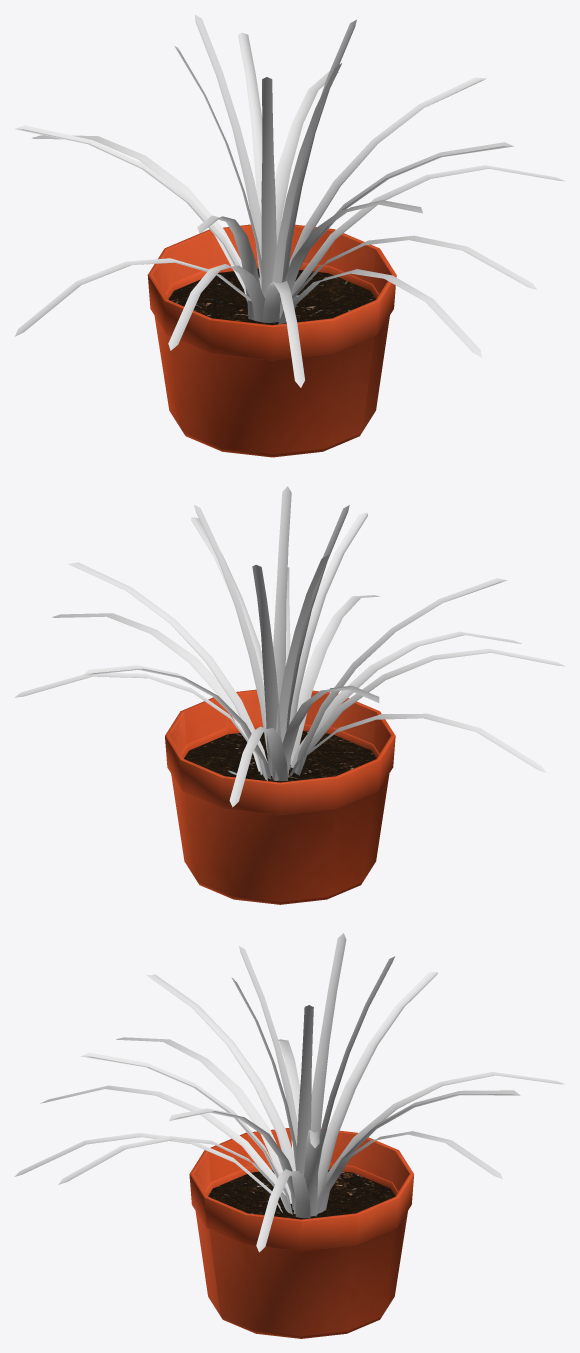
File: 920007_red pot plant.fbx
3 views of the same model, one above another, from view 1: azimuth 30°, elevation 25°; view 2: azimuth 150°, elevation 25°; view 3: azimuth 270°, elevation 25° (orthographic). The views are drawn at different scales.
Parts seen in each view (by area): view 1: Cylinder.012; view 2: Cylinder.012; view 3: Cylinder.012.
Boxes of the visible parts, box(x1,y1,x2,y2) form: Cylinder.012: box(14, 15, 564, 457); Cylinder.012: box(14, 486, 565, 904); Cylinder.012: box(14, 933, 564, 1338).
Bounding box in the file's own units: 51.5 × 34.02 × 50.25.
